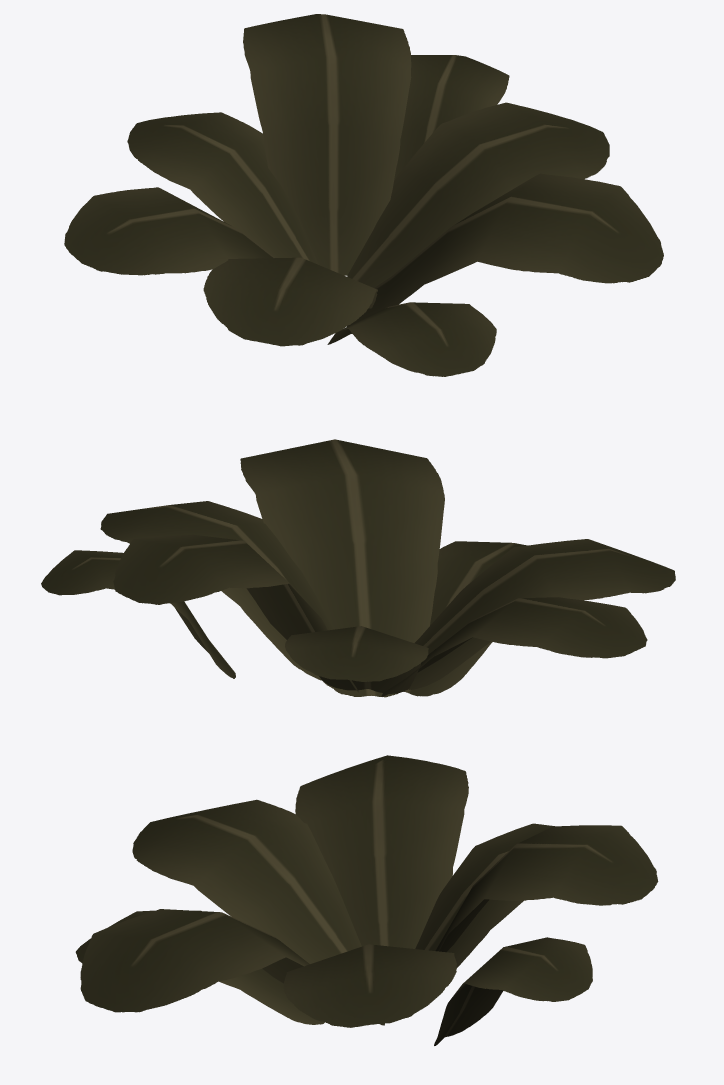
The model's file is plant_2.glb.
3 renders of one model, top to bottom at view 1: azimuth 30°, elevation 25°; view 2: azimuth 150°, elevation 25°; view 3: azimuth 270°, elevation 25°, orthographic. The views are drawn at different scales.
Parts seen in each view (by area): view 1: Plant_22; view 2: Plant_22; view 3: Plant_22.
Boxes of the visible parts, x1=… form: Plant_22: x1=64, y1=14, x2=663, y2=376; Plant_22: x1=41, y1=439, x2=675, y2=697; Plant_22: x1=75, y1=755, x2=658, y2=1045.
Size of the model in its own units: 1.4 by 0.552 by 1.47.
1 material, 1 textured.
